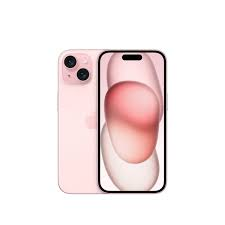IPHONE: (53, 41, 172, 198), (95, 46, 169, 194), (55, 40, 101, 198)
